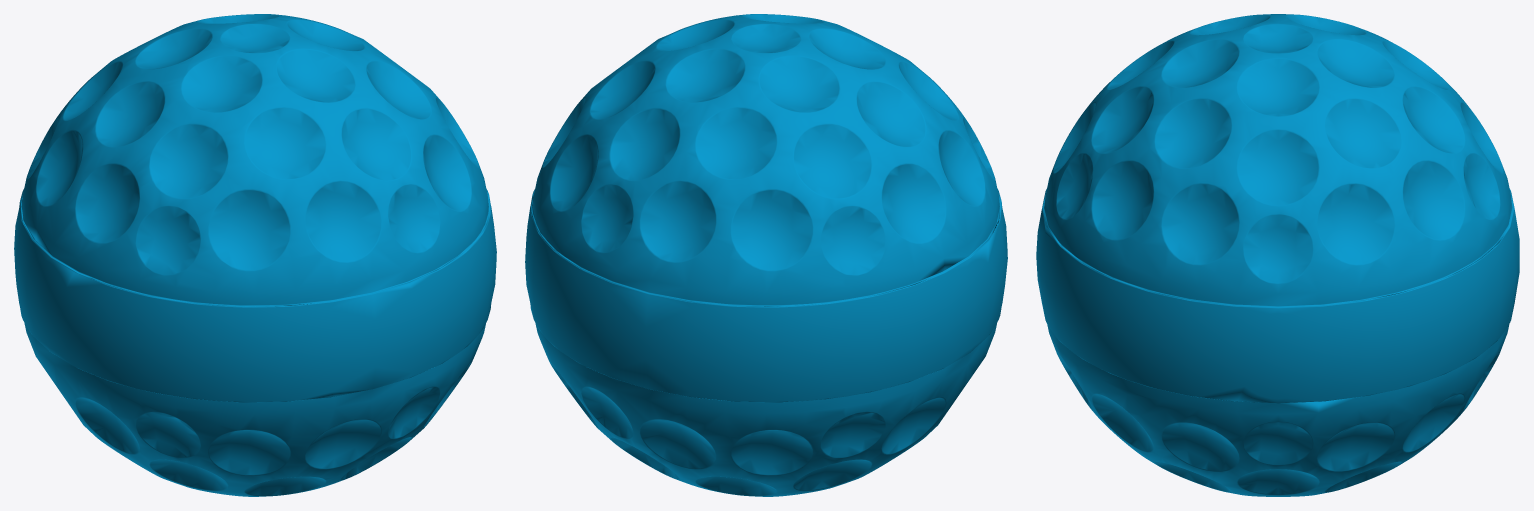
The model's file is Ball.fbx.
3 renders of one model, left to right at view 1: azimuth 30°, elevation 25°; view 2: azimuth 150°, elevation 25°; view 3: azimuth 270°, elevation 25°, orthographic.
Parts seen in each view (by area): view 1: 276-6498-015 Rev1; view 2: 276-6498-015 Rev1; view 3: 276-6498-015 Rev1.
Boxes of the visible parts, left/top/right/bottom form: 276-6498-015 Rev1: left=14, top=14, right=496, bottom=496; 276-6498-015 Rev1: left=525, top=14, right=1007, bottom=496; 276-6498-015 Rev1: left=1036, top=14, right=1519, bottom=496.
Size of the model in its own units: 16 by 15.83 by 15.98.
